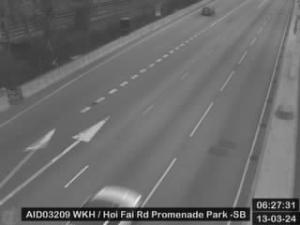vehicle: (82, 183, 140, 224), (202, 7, 215, 16)
